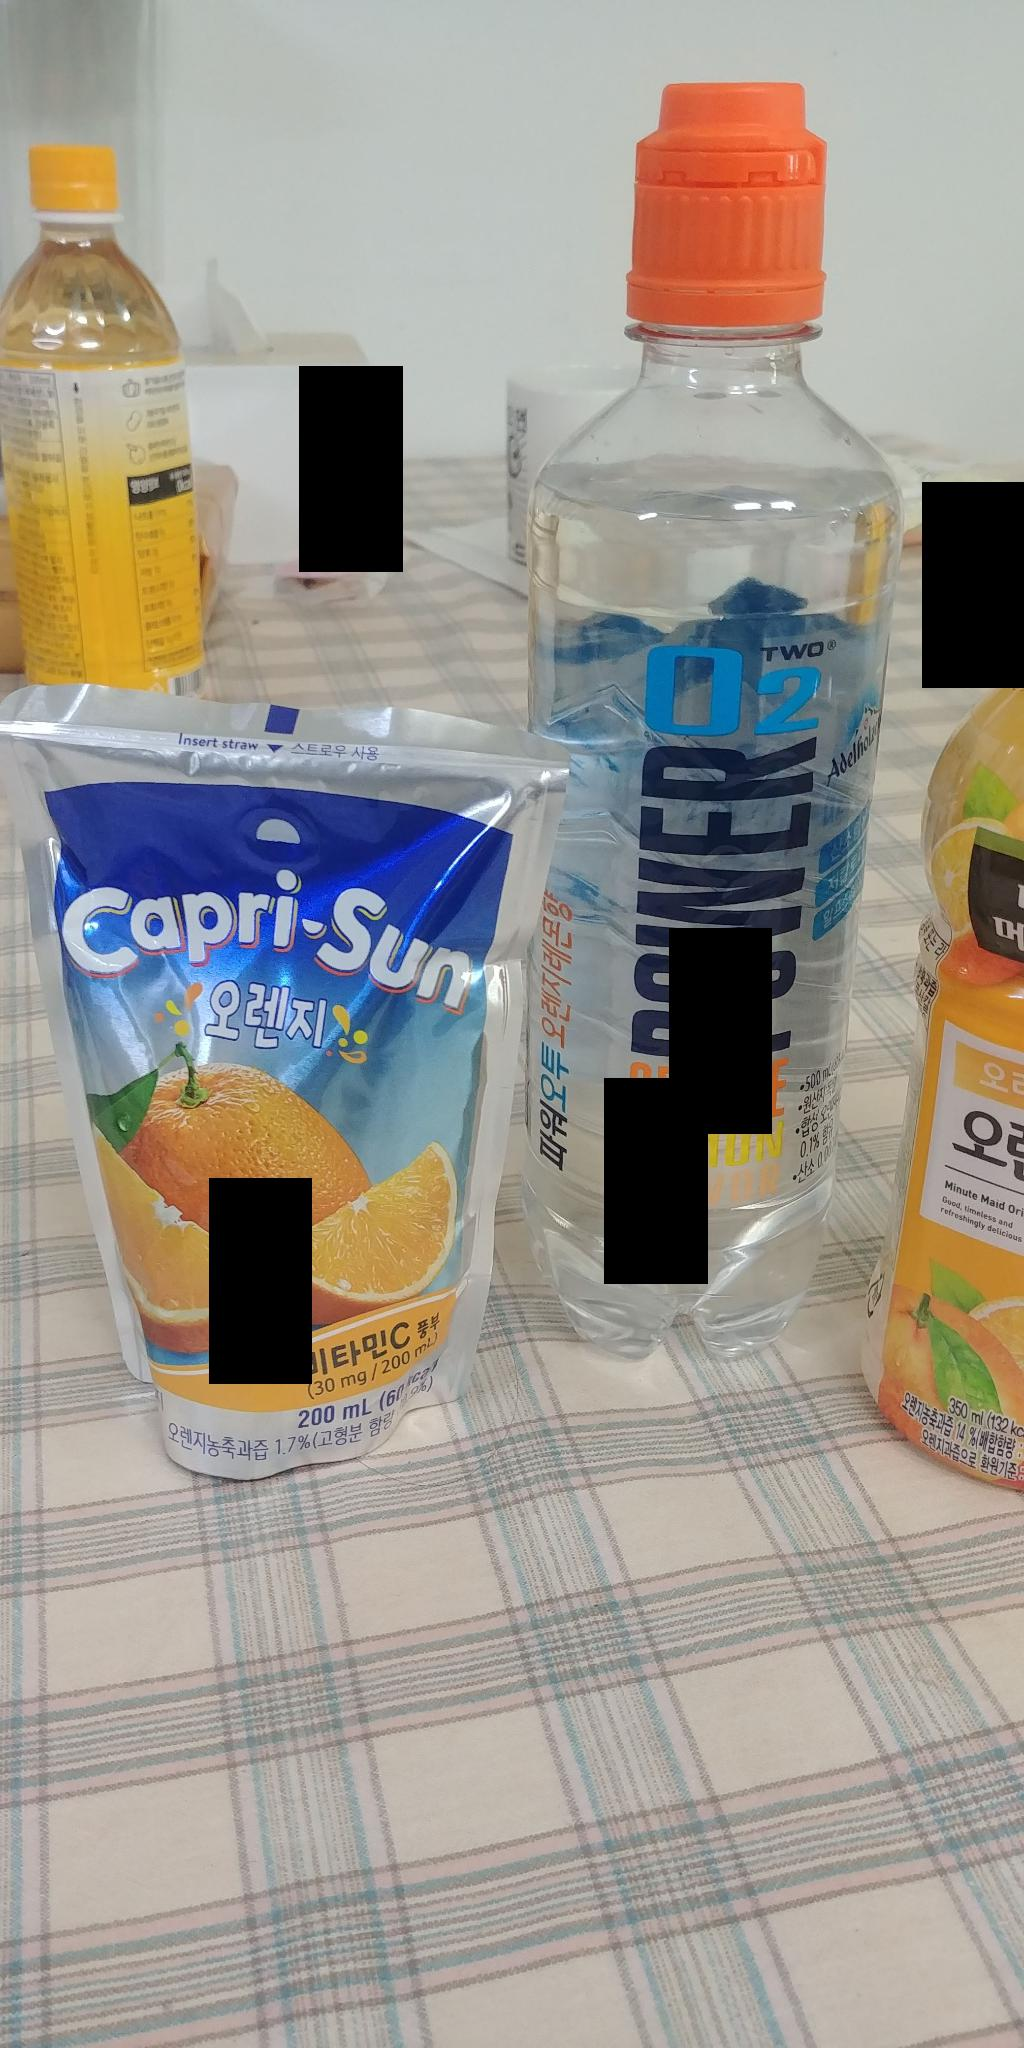cafrisun: (0, 652, 551, 1509)
powerO2_orange: (511, 51, 930, 1370)
